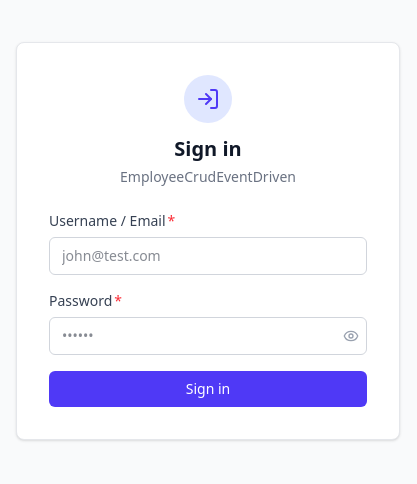
it: LoginPage › shows error when submitting with empty fields
The image size is (417, 484).
Click the button "Sign in" at coordinates (208, 389), box x1=49 y1=371 x2=367 y2=407
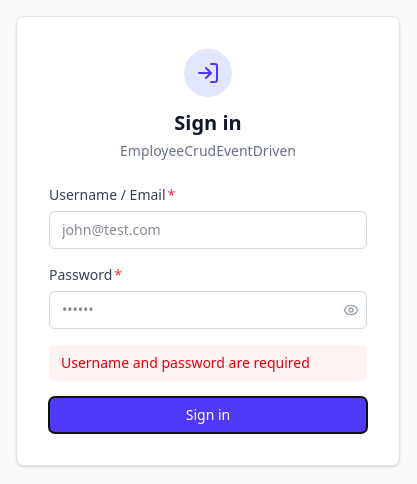
Expected: the text "Username and password are required" is shown, x1=49 y1=345 x2=367 y2=381
